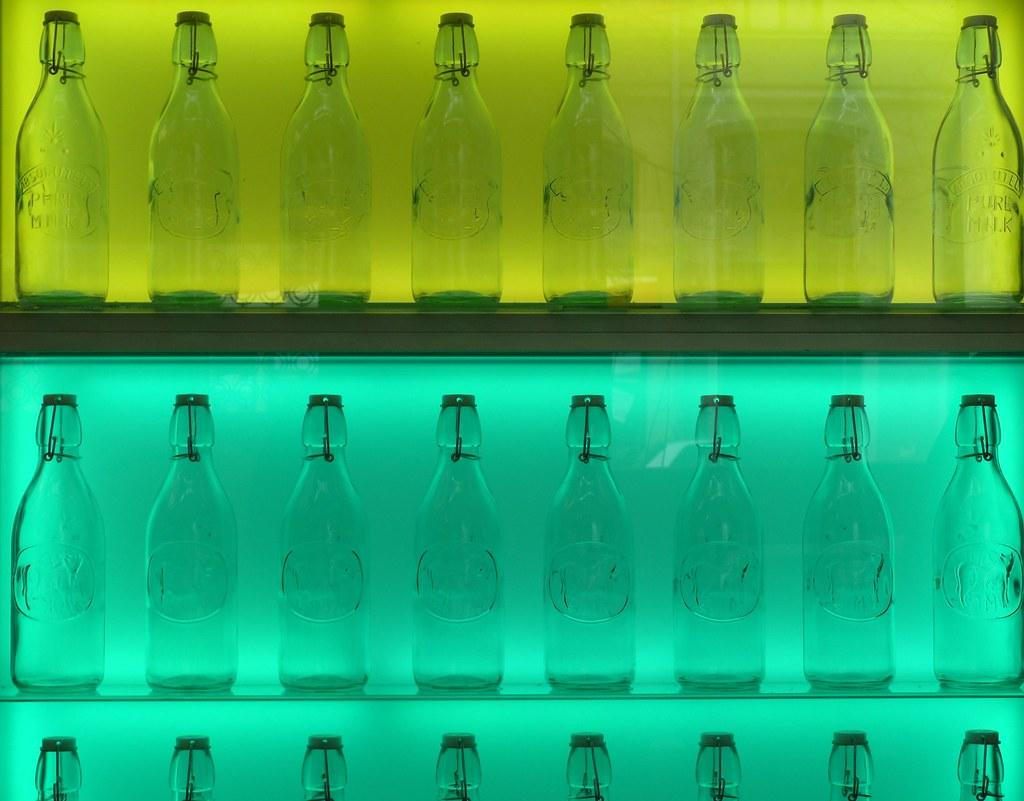bottle: (10, 393, 107, 695), (14, 10, 111, 308), (145, 393, 240, 692), (279, 12, 374, 307), (543, 394, 637, 691), (147, 11, 241, 306), (278, 394, 371, 692), (802, 395, 896, 689), (410, 12, 504, 305), (931, 394, 1024, 690), (542, 13, 635, 309), (412, 394, 504, 692), (673, 13, 766, 306), (673, 394, 765, 689), (803, 14, 896, 305), (932, 15, 1024, 307), (958, 730, 1005, 801), (828, 732, 875, 801), (435, 734, 483, 801), (34, 737, 83, 801), (696, 733, 742, 801), (567, 733, 613, 801), (169, 736, 216, 801), (302, 736, 348, 801)
